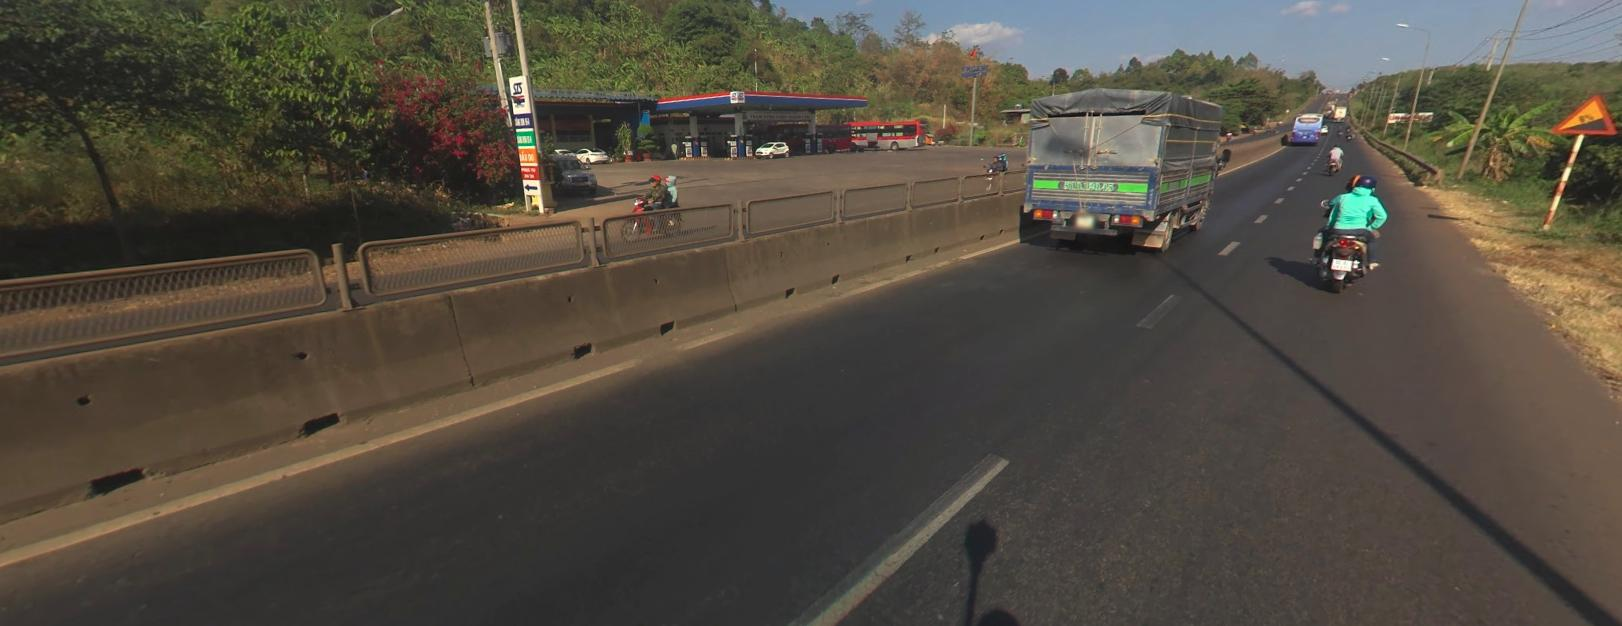Nguy hiem: (1551, 94, 1616, 133)
